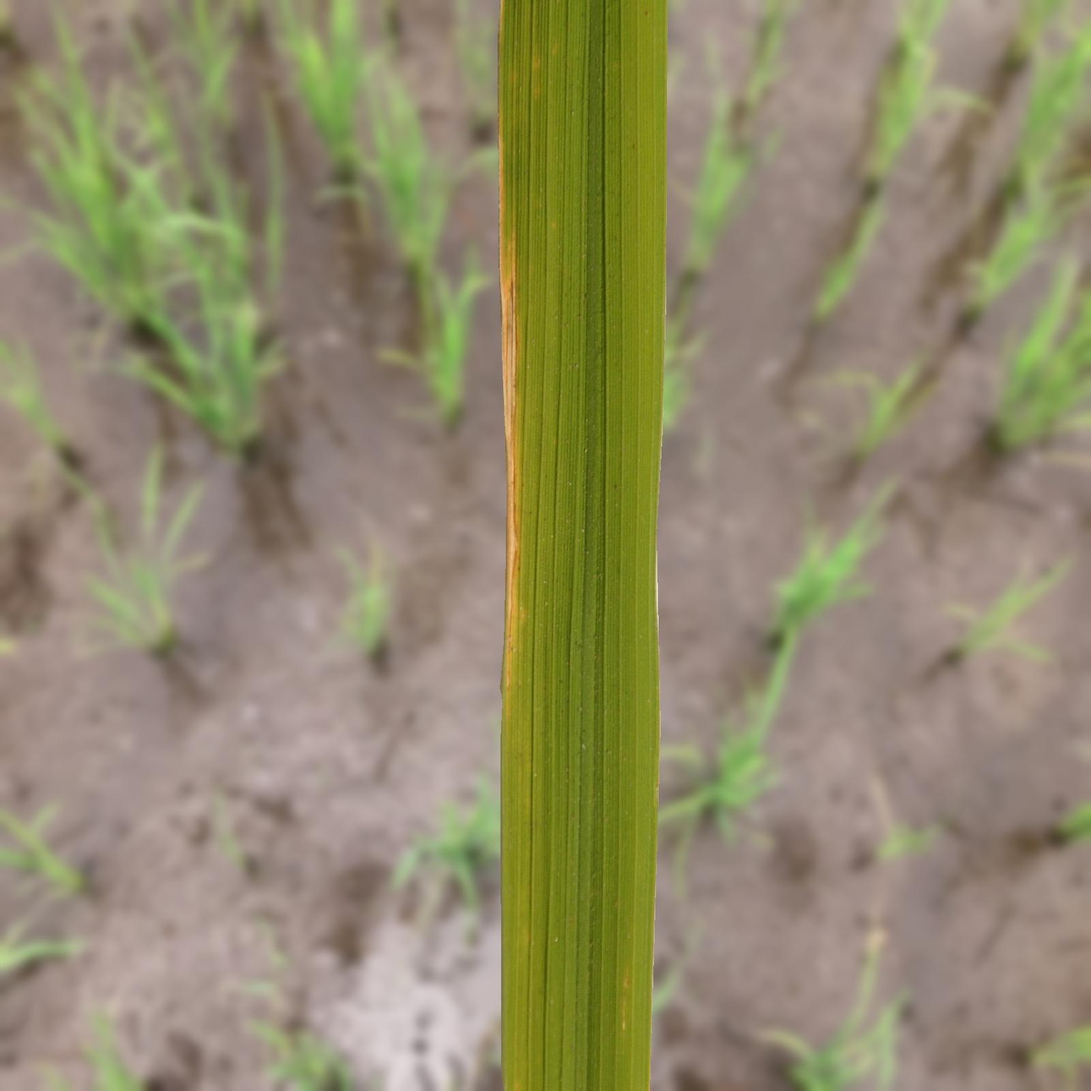BLS: (498, 115, 529, 721)
LEAF: (498, 0, 667, 1090)
